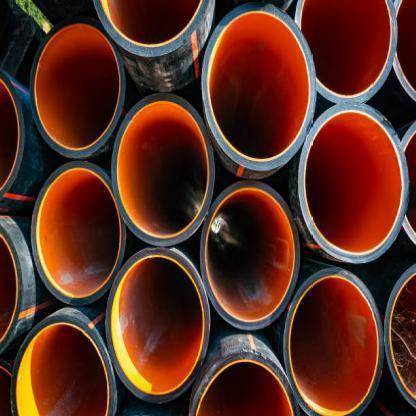pipe: (201, 3, 315, 171), (298, 102, 408, 264), (106, 248, 210, 404), (112, 93, 214, 246), (200, 181, 300, 330), (284, 267, 384, 415), (31, 161, 126, 304), (30, 18, 126, 158), (10, 314, 116, 415), (295, 0, 398, 103), (188, 350, 300, 416), (92, 0, 215, 58), (383, 264, 416, 410), (0, 224, 25, 352), (0, 71, 23, 197), (390, 0, 416, 102)
